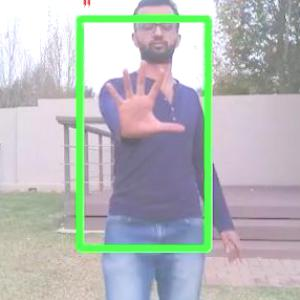follow_hand: (103, 51, 189, 145)
